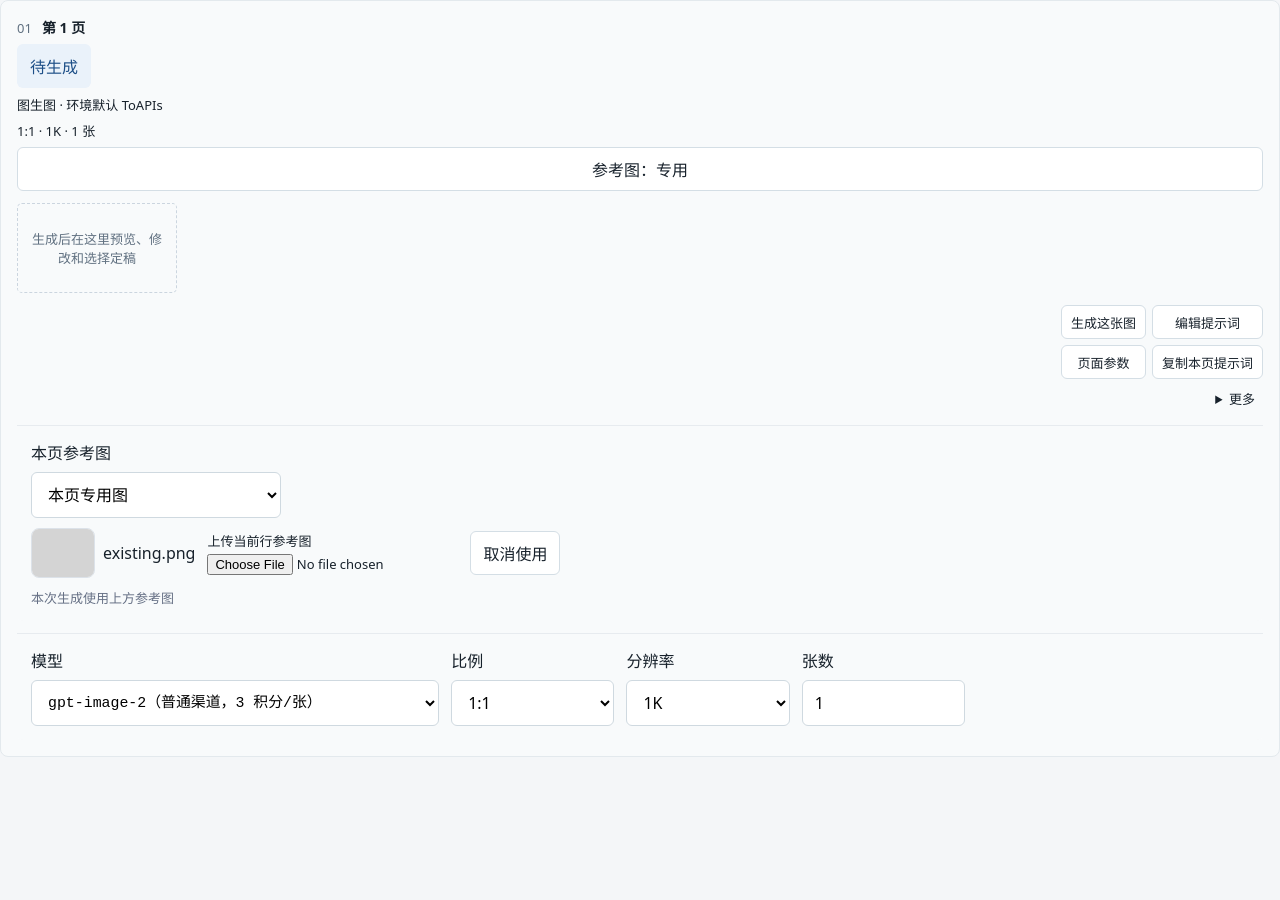
Test: preserves reference selection when a newly selected image model cannot accept it
Click the button "页面参数".
click(1104, 362)  # box x1=1061 y1=345 x2=1146 y2=379
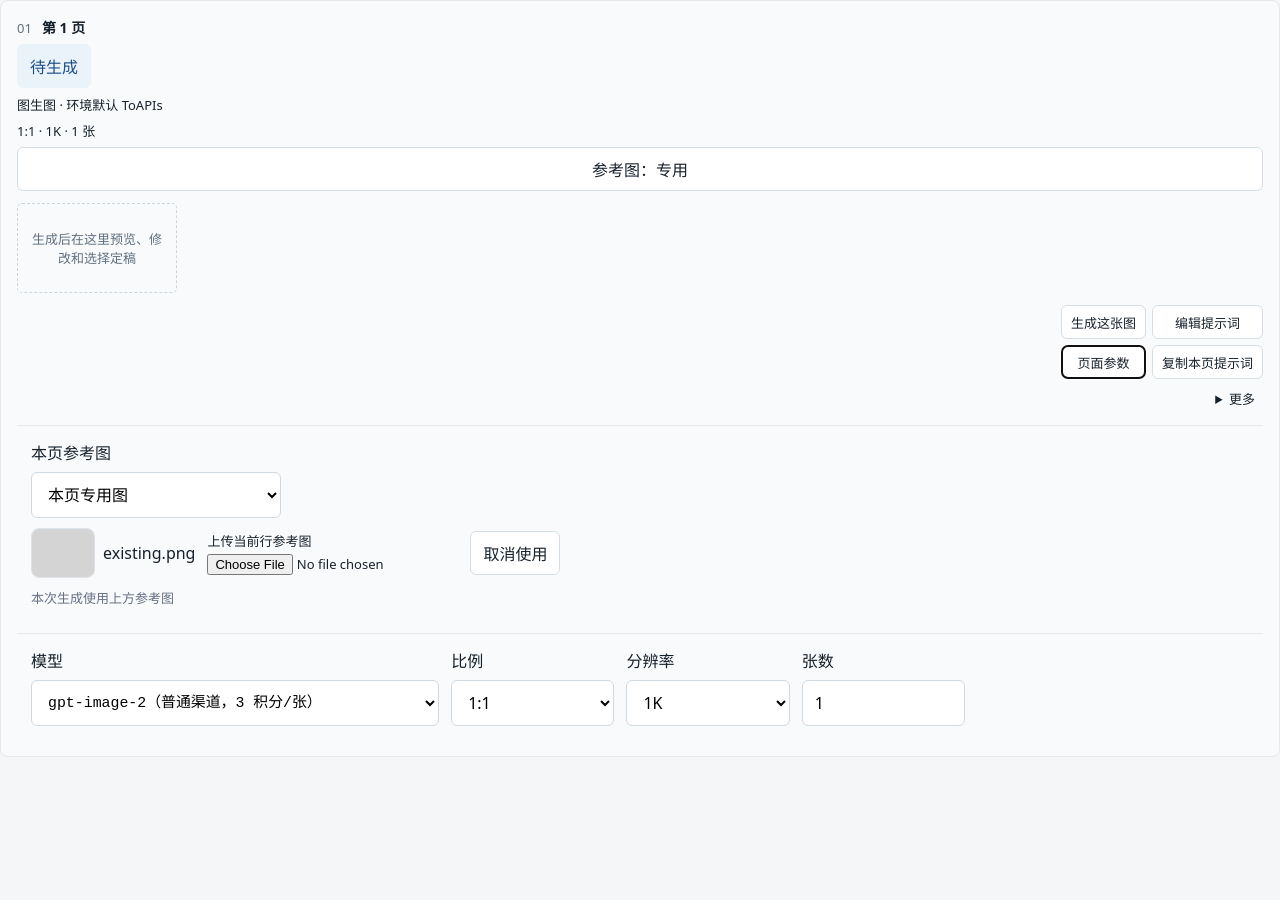
expect the text "existing.png" is shown: met, box x1=103 y1=542 x2=196 y2=564
Select "Unsupported reference" in the dropdown labelled "模型" at (235, 703), box x1=31 y1=680 x2=439 y2=726
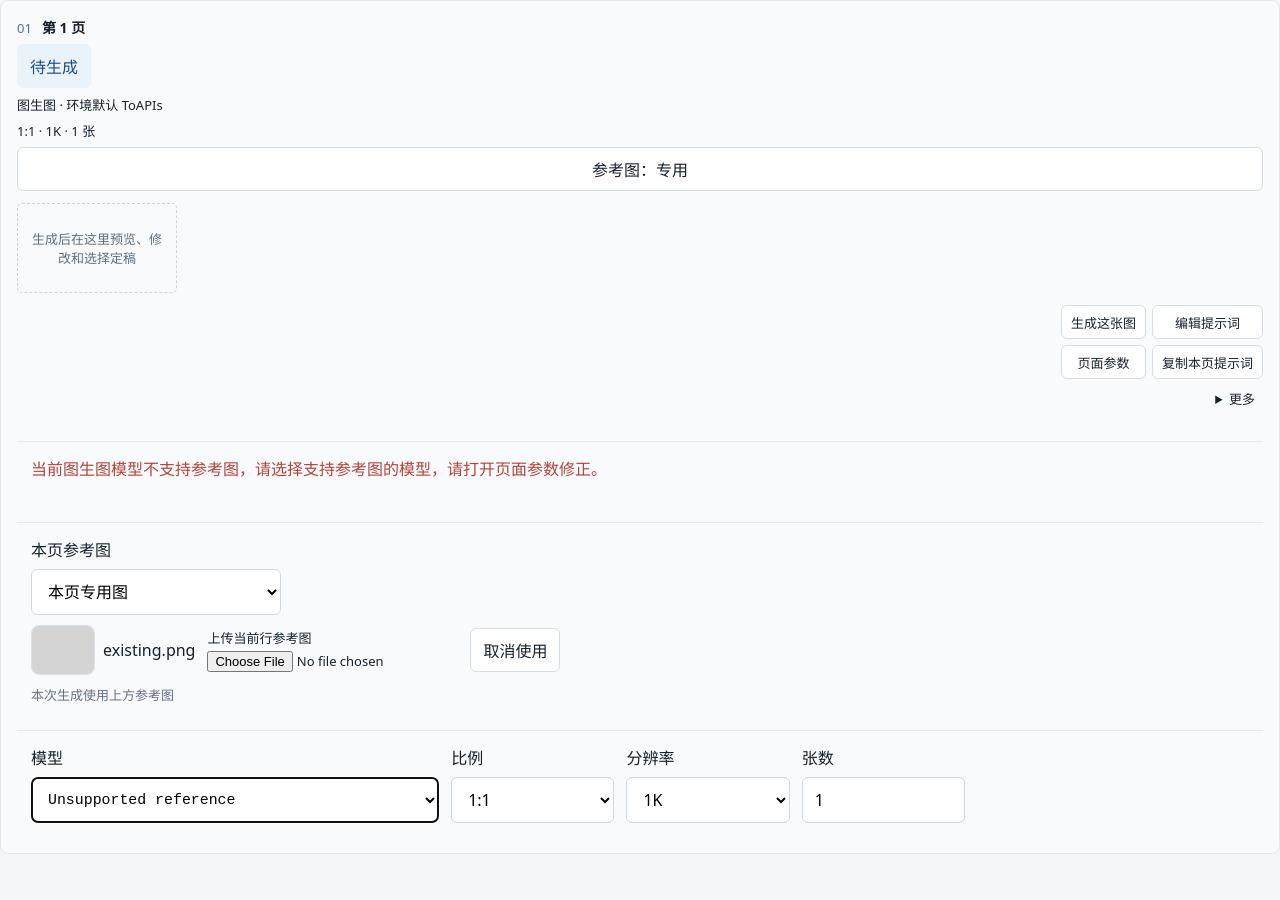
expect the dropdown labelled "本页参考图" shows "本页专用图": met, box x1=31 y1=569 x2=281 y2=615
expect the text "当前图生图模型不支持参考图，请选择支持参考图的模型，请打开页面参数修正。" is shown: met, box x1=17 y1=441 x2=1263 y2=494
